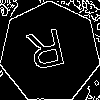R: (25, 28, 70, 80)
